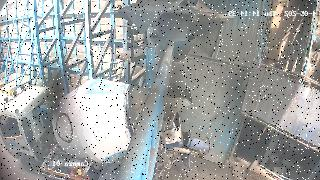cement_mixer_truck: (0, 79, 194, 180)
swing_chute: (150, 34, 195, 95)
